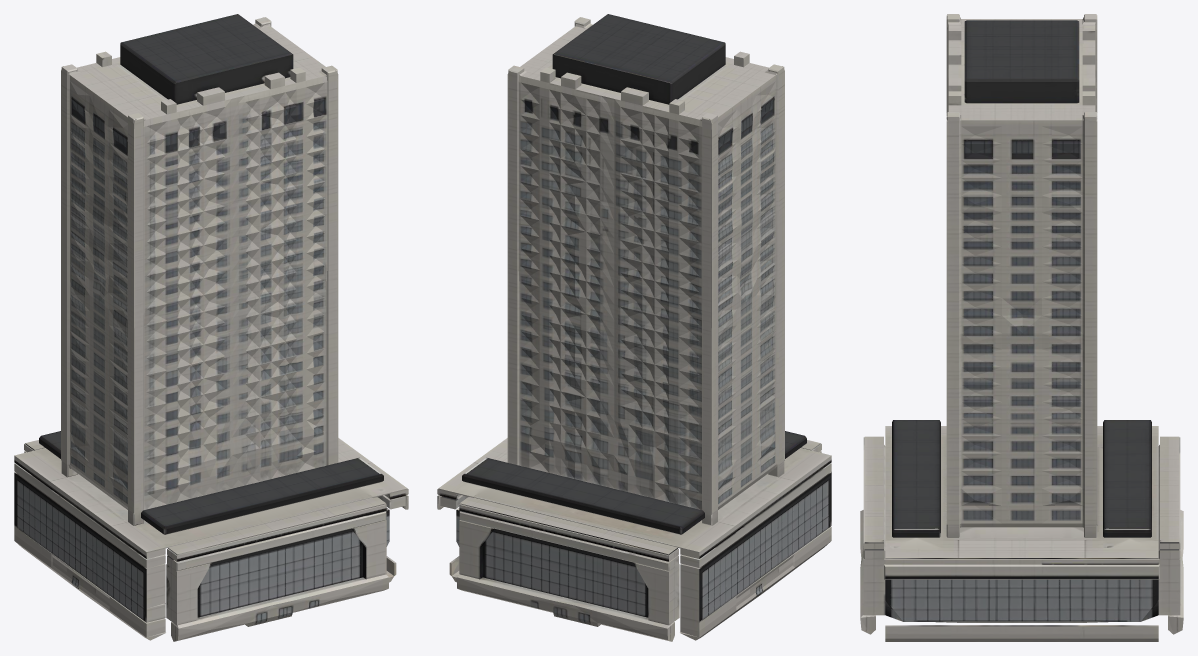
File: torrehumboldt.glb
3 views of the same model, side by side, from view 1: azimuth 30°, elevation 25°; view 2: azimuth 150°, elevation 25°; view 3: azimuth 270°, elevation 25° (orthographic). The views are drawn at different scales.
Parts seen in each view (by area): view 1: tripo_node_b94ffe26-a8e0-486a-ab4b-c9cedf45752a; view 2: tripo_node_b94ffe26-a8e0-486a-ab4b-c9cedf45752a; view 3: tripo_node_b94ffe26-a8e0-486a-ab4b-c9cedf45752a.
Boxes of the visible parts, x1,y1,x2,y2 form: tripo_node_b94ffe26-a8e0-486a-ab4b-c9cedf45752a: (14, 14, 408, 641); tripo_node_b94ffe26-a8e0-486a-ab4b-c9cedf45752a: (437, 14, 831, 641); tripo_node_b94ffe26-a8e0-486a-ab4b-c9cedf45752a: (860, 14, 1183, 641).
Size of the model in its own units: 7.15 by 13.44 by 7.38.
Materials: 1 (1 with a texture image).
